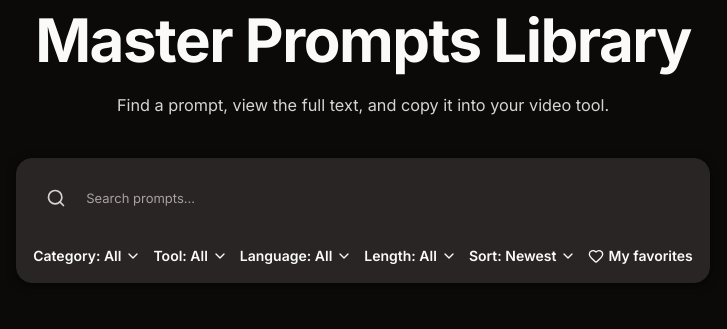
Test: PromptTopSection (step 1, filter row) › without facets, a dynamic filter offers only All — never a hardcoded list
Click the button "Category: All": (87, 256) x1=33 y1=246 x2=142 y2=266
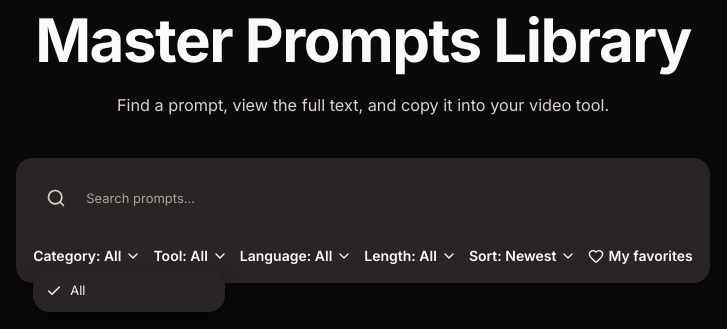
Now the number of options is 1, box x1=38 y1=275 x2=220 y2=307
